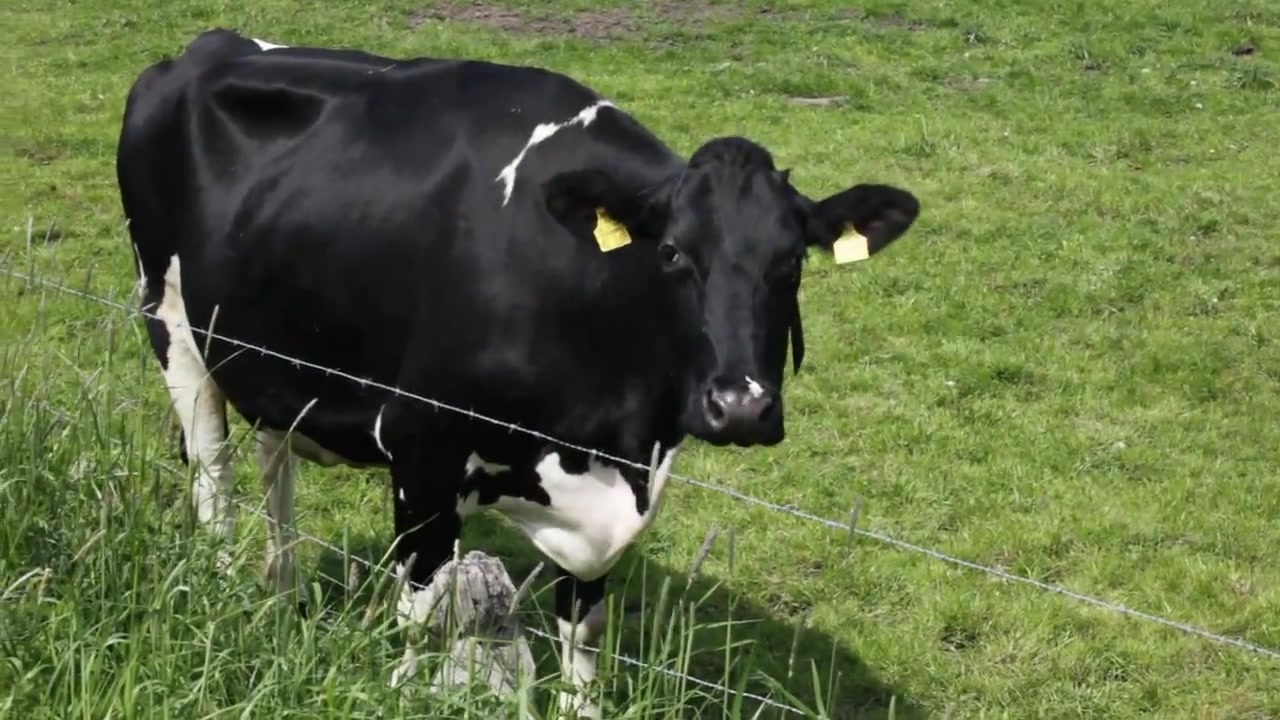cow: (112, 31, 922, 719)
